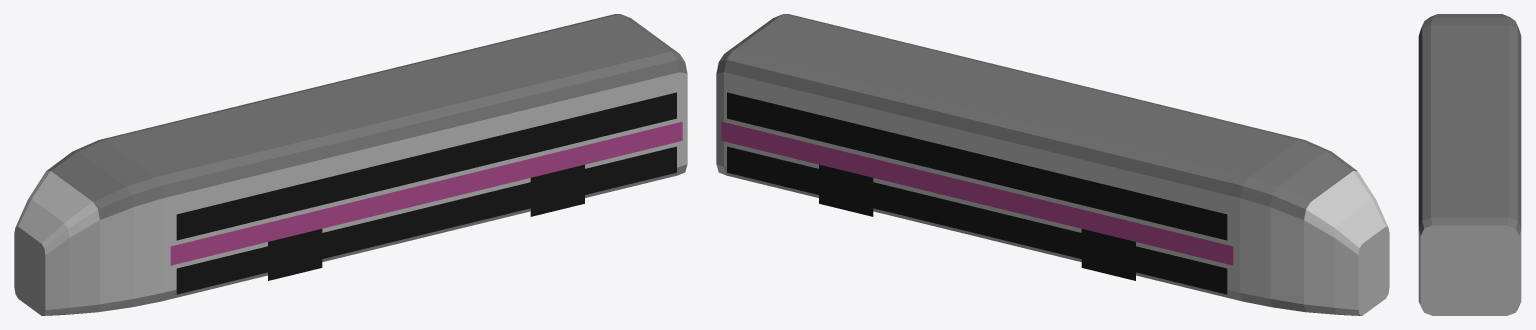
The model's file is rer_generic_E__cab.glb.
3 renders of one model, left to right at view 1: azimuth 30°, elevation 25°; view 2: azimuth 150°, elevation 25°; view 3: azimuth 270°, elevation 25°, orthographic. The views are drawn at different scales.
Parts seen in each view (by area): view 1: rer_generic_E__cab; view 2: rer_generic_E__cab; view 3: rer_generic_E__cab.
Boxes of the visible parts, box(x1,y1,x2,y2) form: rer_generic_E__cab: box(14, 14, 687, 315); rer_generic_E__cab: box(716, 14, 1389, 315); rer_generic_E__cab: box(1418, 14, 1521, 315).
Bounding box in the file's own units: 15 × 2.85 × 2.83.
